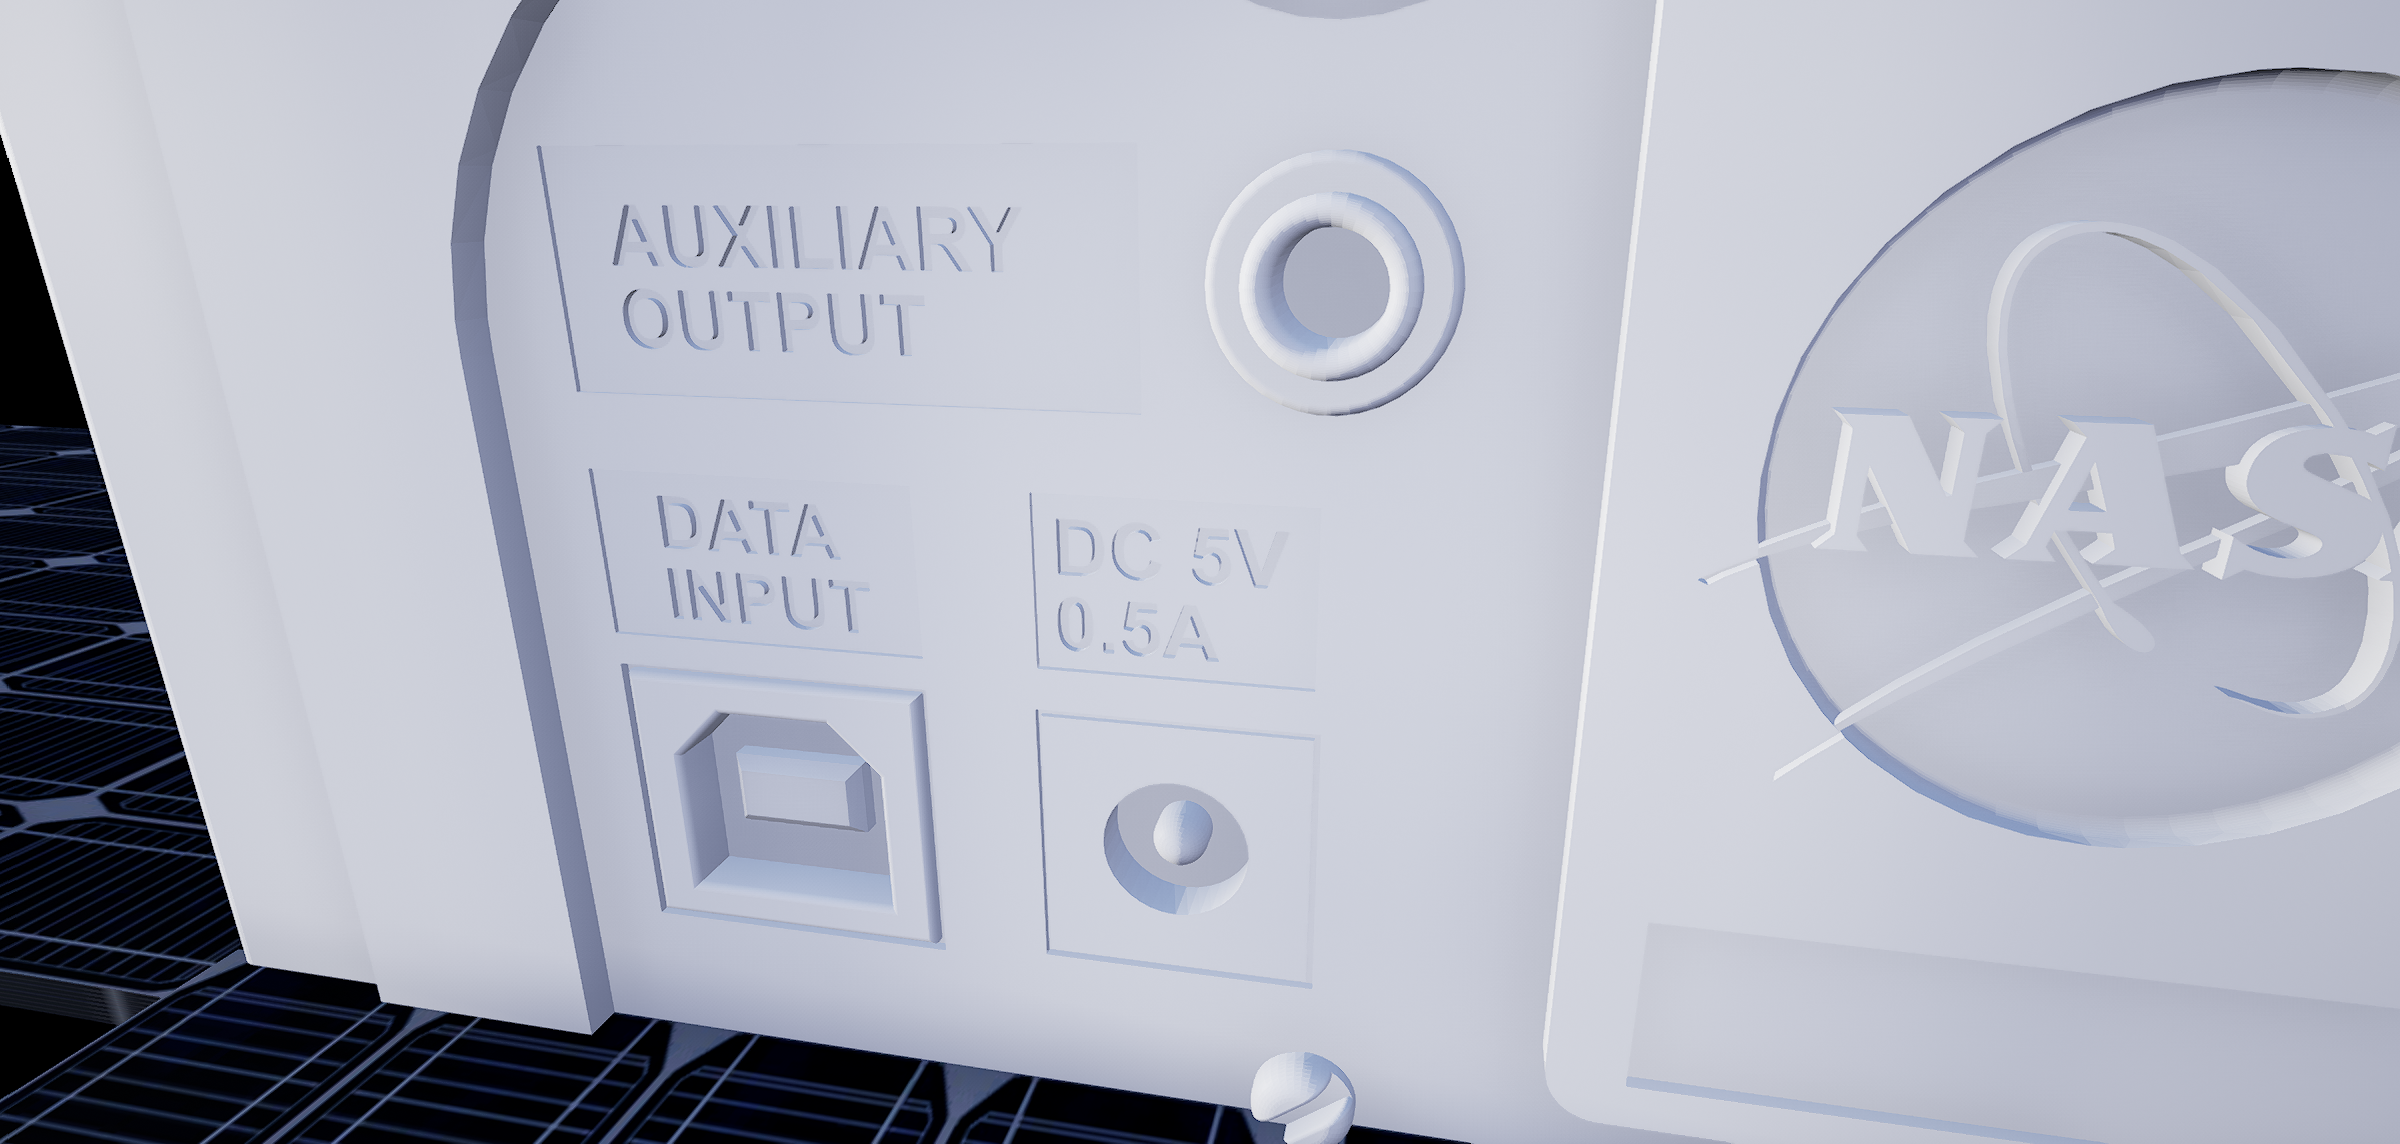aux: (1188, 136, 1479, 424)
dc: (1094, 770, 1267, 939)
usb: (651, 697, 912, 928)
